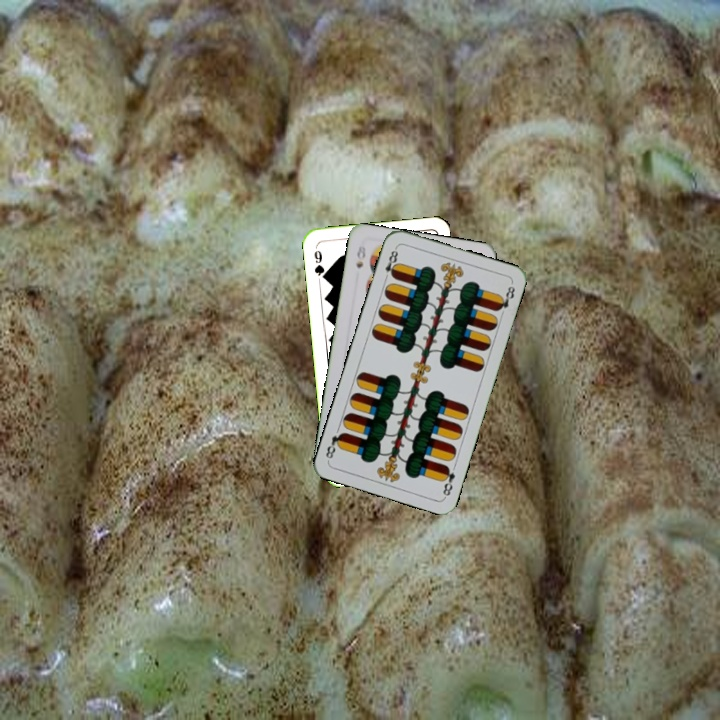E8: (380, 243, 401, 283), (438, 462, 458, 499)
G9: (310, 246, 328, 282)
S8: (352, 241, 368, 271)
